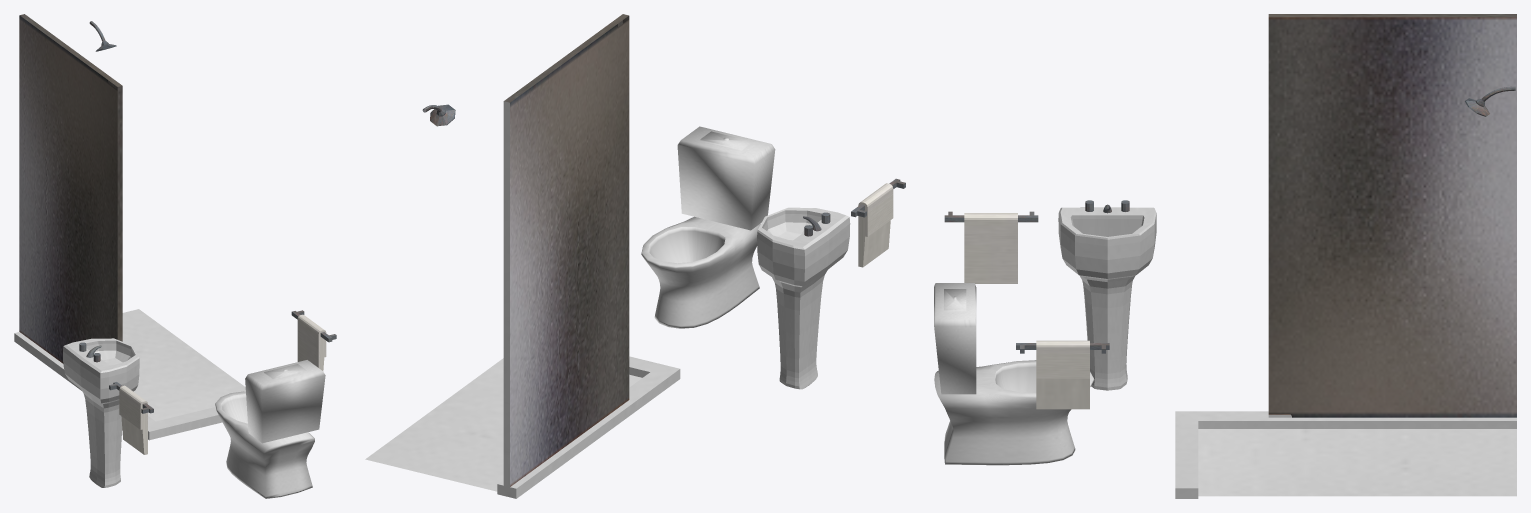
Rendered from Bathroom2.fbx.
3 renders of one model, left to right at view 1: azimuth 30°, elevation 25°; view 2: azimuth 150°, elevation 25°; view 3: azimuth 270°, elevation 25°, orthographic. The views are drawn at different scales.
Parts seen in each view (by area): view 1: Cube.002; view 2: Cube.002; view 3: Cube.002.
Part boxes in pixels (x1,y1,x2,y2): Cube.002: (14, 14, 336, 498); Cube.002: (365, 14, 905, 498); Cube.002: (934, 14, 1516, 498).
Size of the model in its own units: 143 by 203 by 256.
